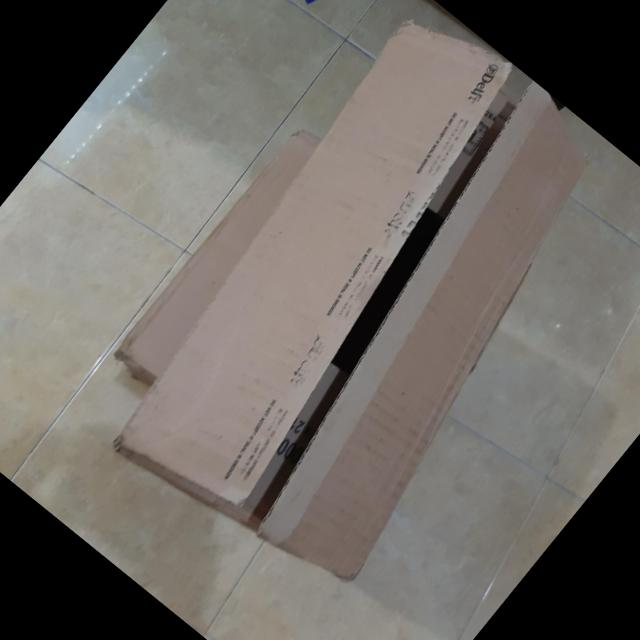Kardus: (78, 0, 640, 618)
